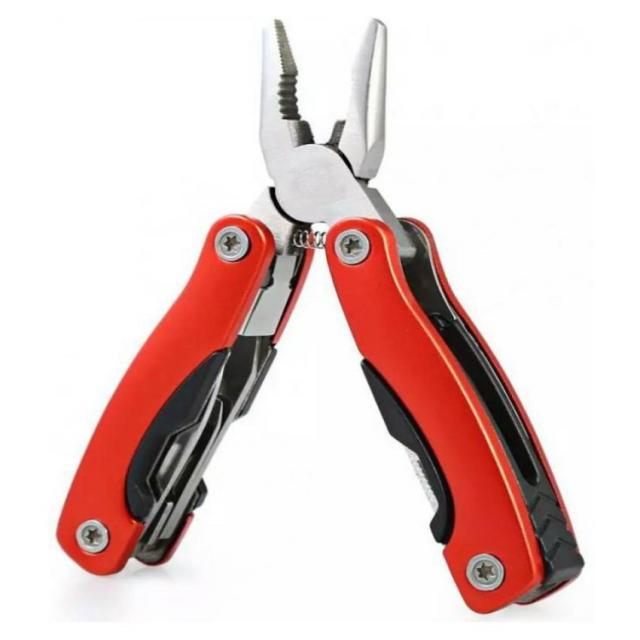pliers: (50, 9, 592, 620)
